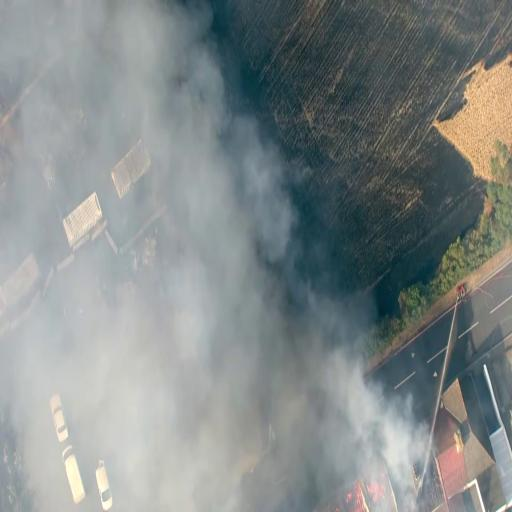smoke: (124, 255, 272, 461)
